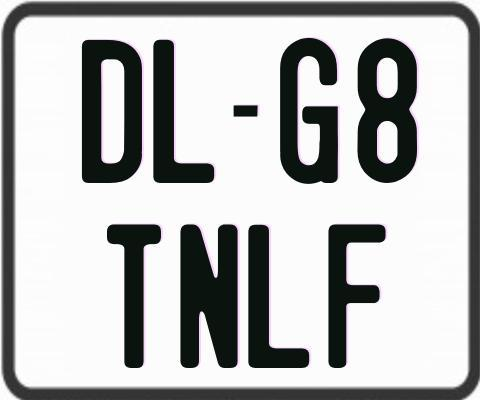8: (357, 38, 422, 188)
D: (82, 39, 144, 186)
F: (325, 222, 385, 370)
G: (280, 35, 338, 182)
L: (247, 224, 313, 370), (152, 38, 218, 181)
N: (177, 222, 237, 369)
T: (106, 224, 160, 374)
